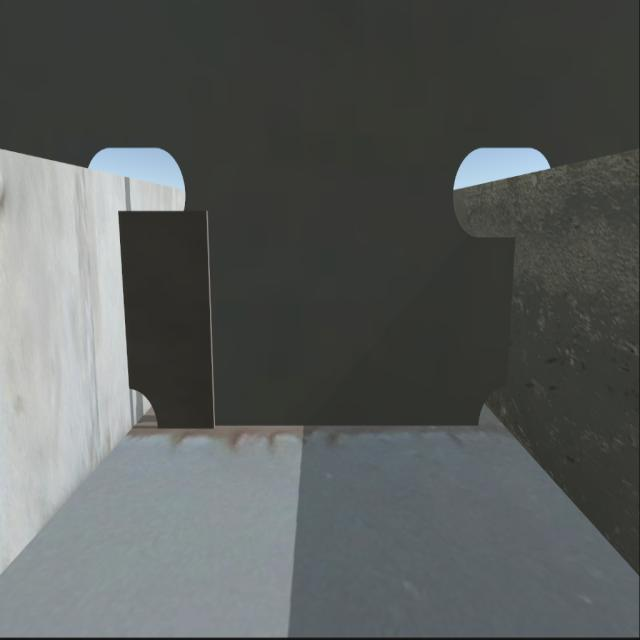fillet_hole: (473, 386, 509, 428), (126, 391, 153, 440)
fillet_yong_jeop_jang: (160, 422, 470, 436)
longi_yong_jeop_jang: (117, 211, 130, 392), (501, 244, 516, 382)
plate_CP01: (123, 216, 213, 430)
